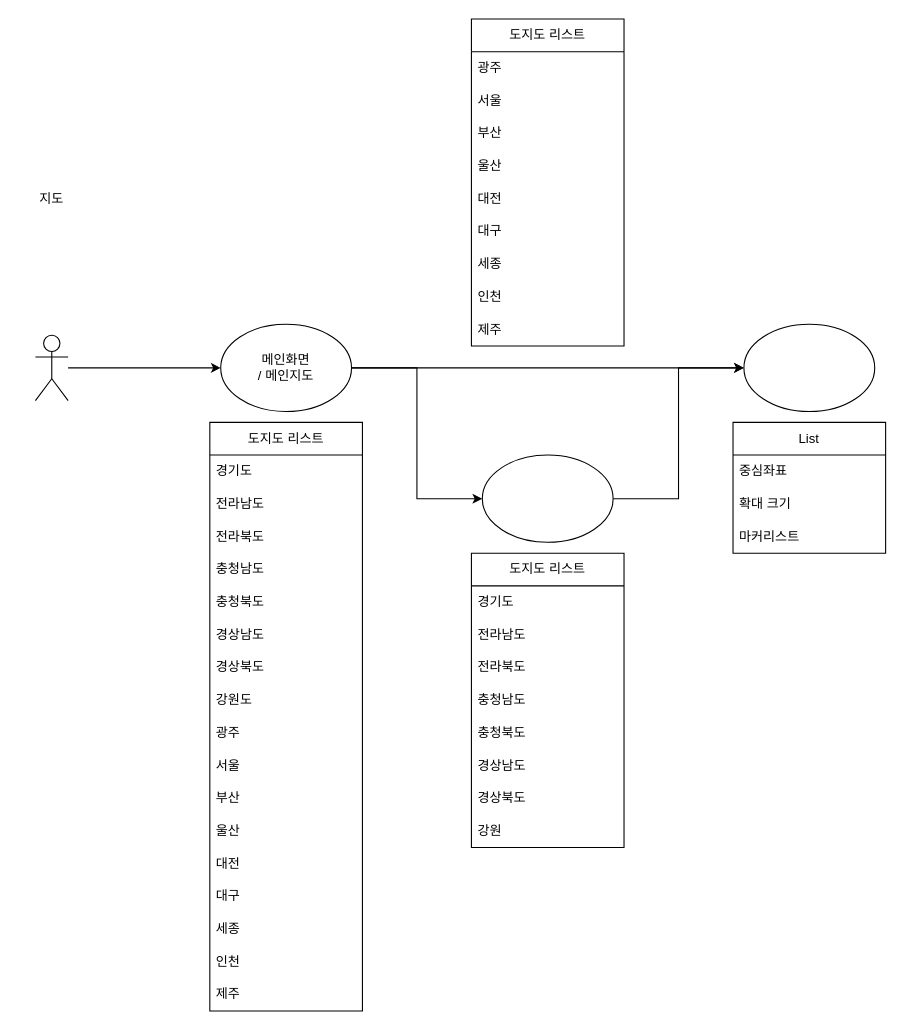
The diagram is 905 pixels wide and 1030 high, and some of its shapes have lost their labels. The centre of each missing label's shape, as x and y in pixels:
"Actor" goes at (x=51, y=367).
"API 지도" goes at (x=809, y=367).
"도지도" goes at (x=547, y=498).
